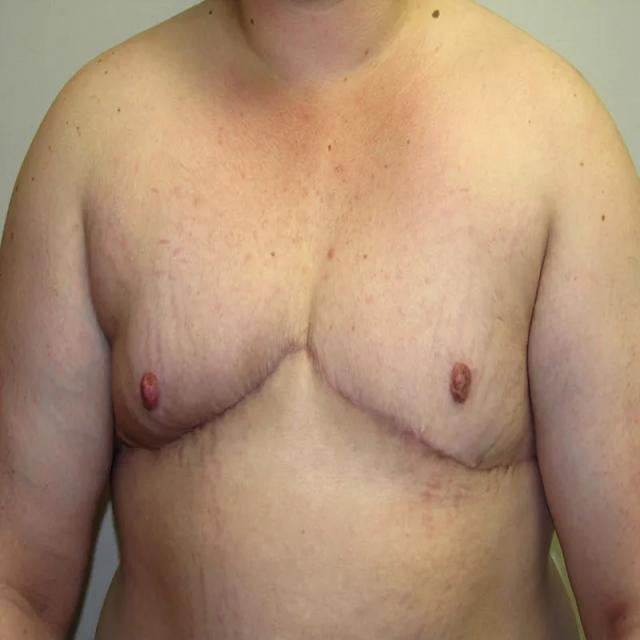Seno herido: (301, 238, 544, 502), (104, 238, 298, 476)
